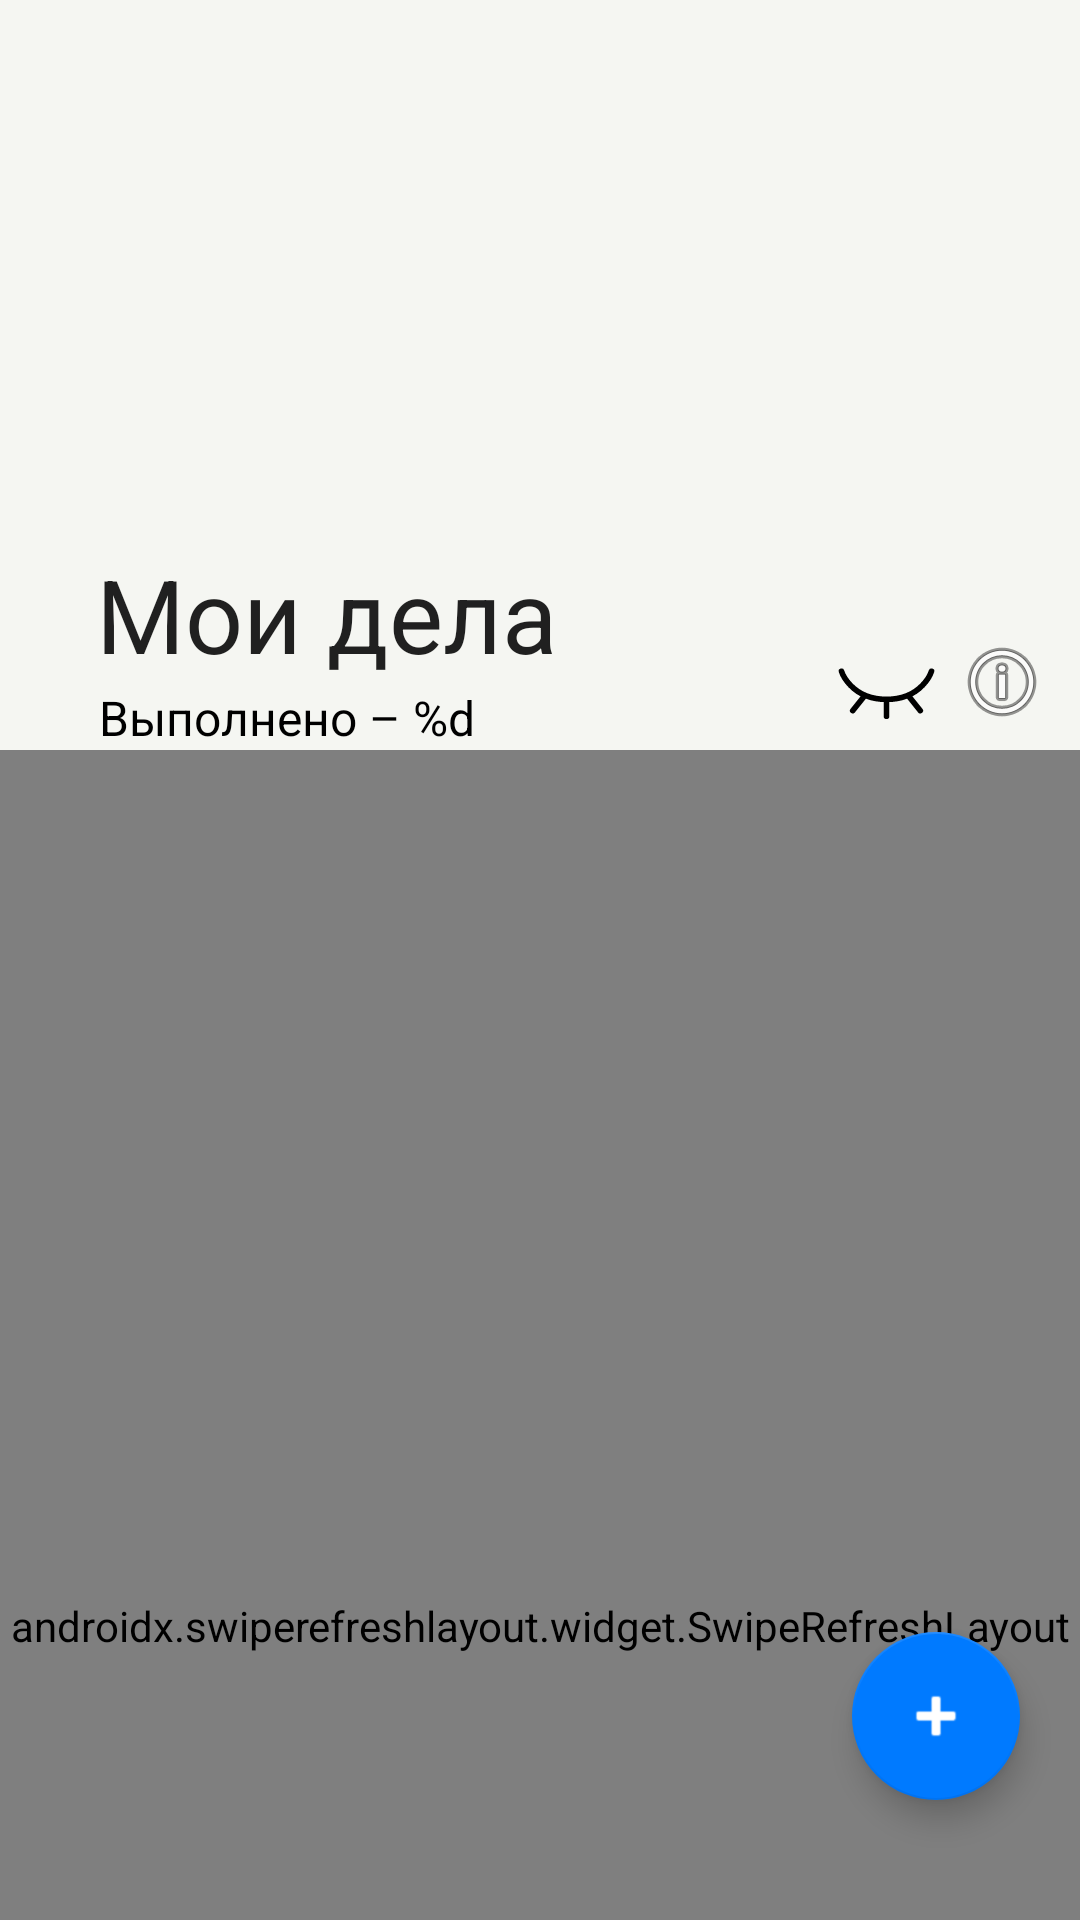

Screen size 1080px x 1920px. Icon name, then its center in pixels as [x,y]:
info details: [1002,682]
plus sign: [936,1716]
